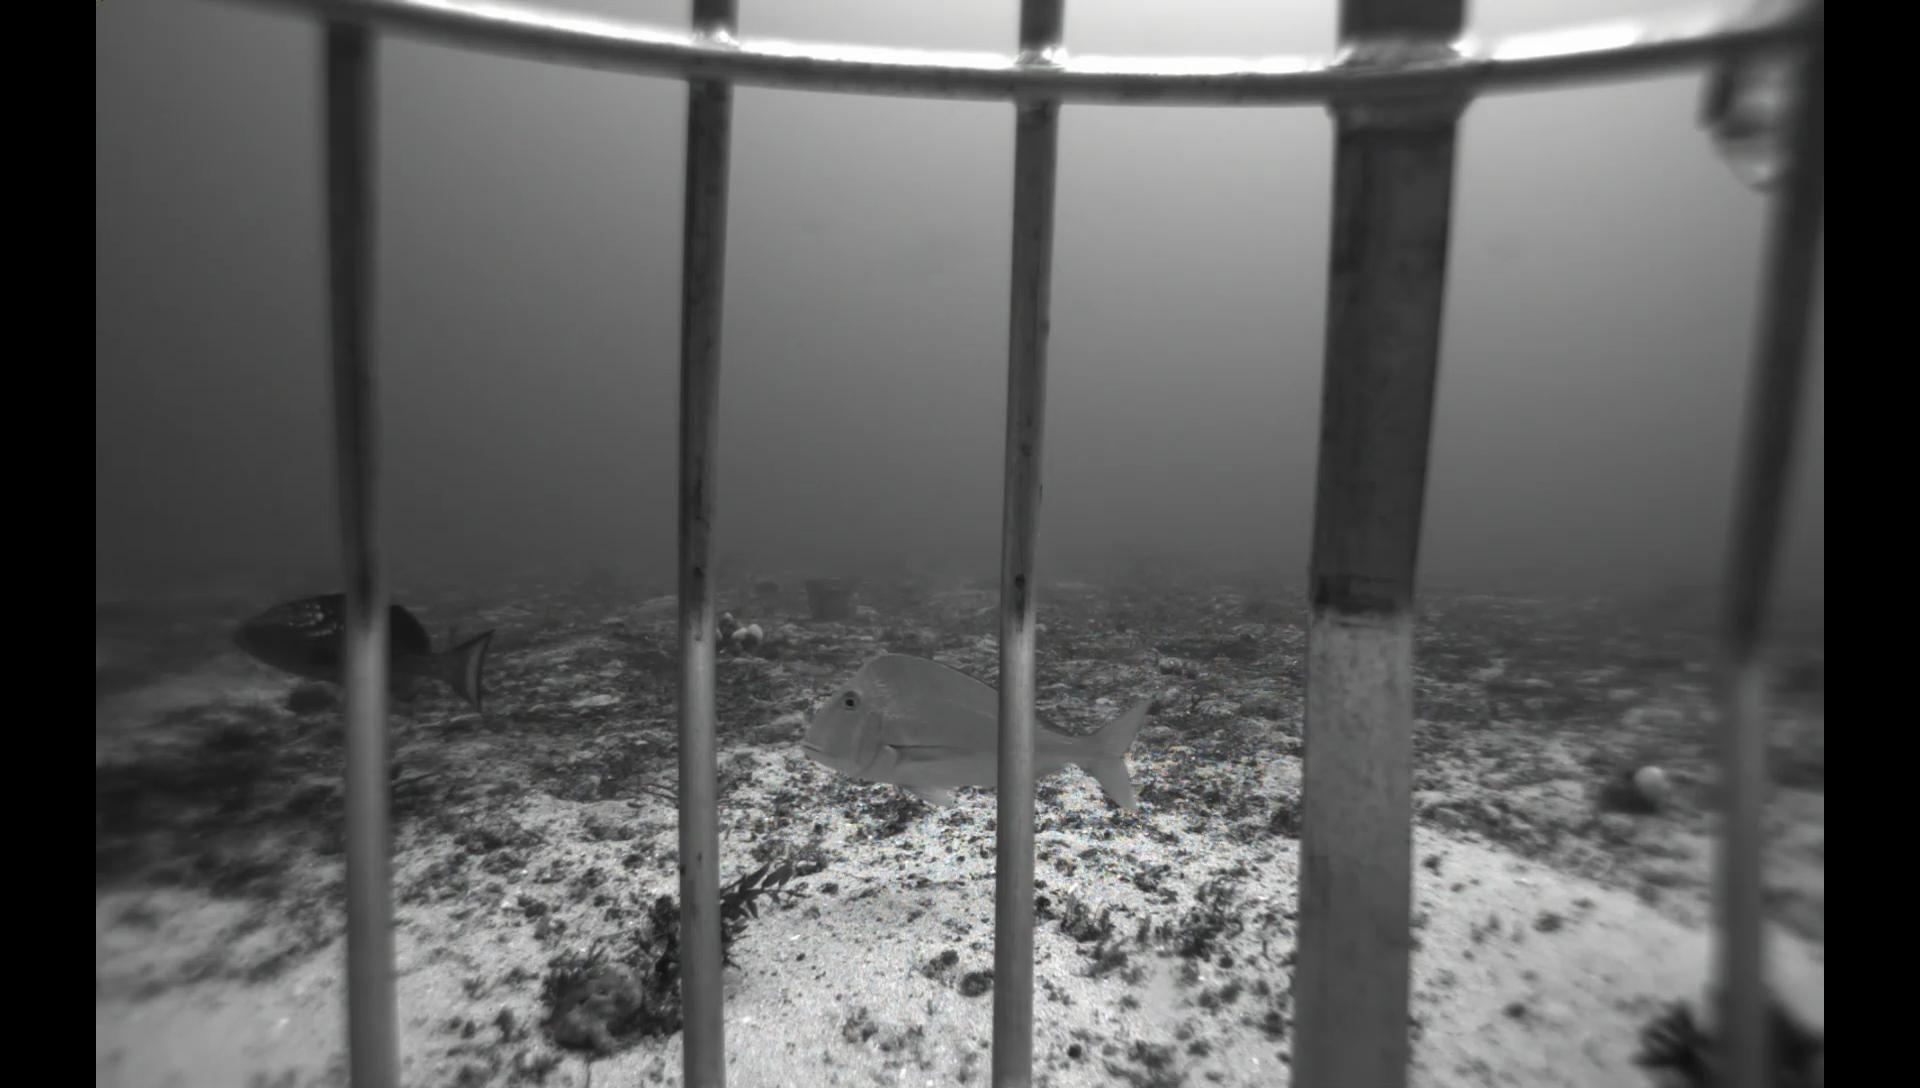CALAMUSNODOSUS-170210608: (791, 650, 1166, 833)
CHAETODONOCELLATUS-170260307: (895, 572, 922, 591), (741, 564, 762, 586)
EPINEPHELUSMORIO-170021211: (222, 588, 501, 727)
PAGRUSPAGRUS-170212302: (1687, 36, 1785, 200)
PRISTIGENYSALTA-170050401: (276, 678, 348, 719)
